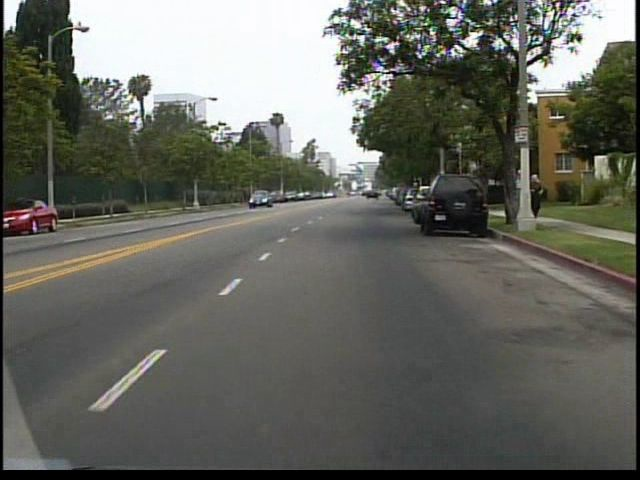person: (529, 169, 547, 220), (511, 164, 528, 213)
